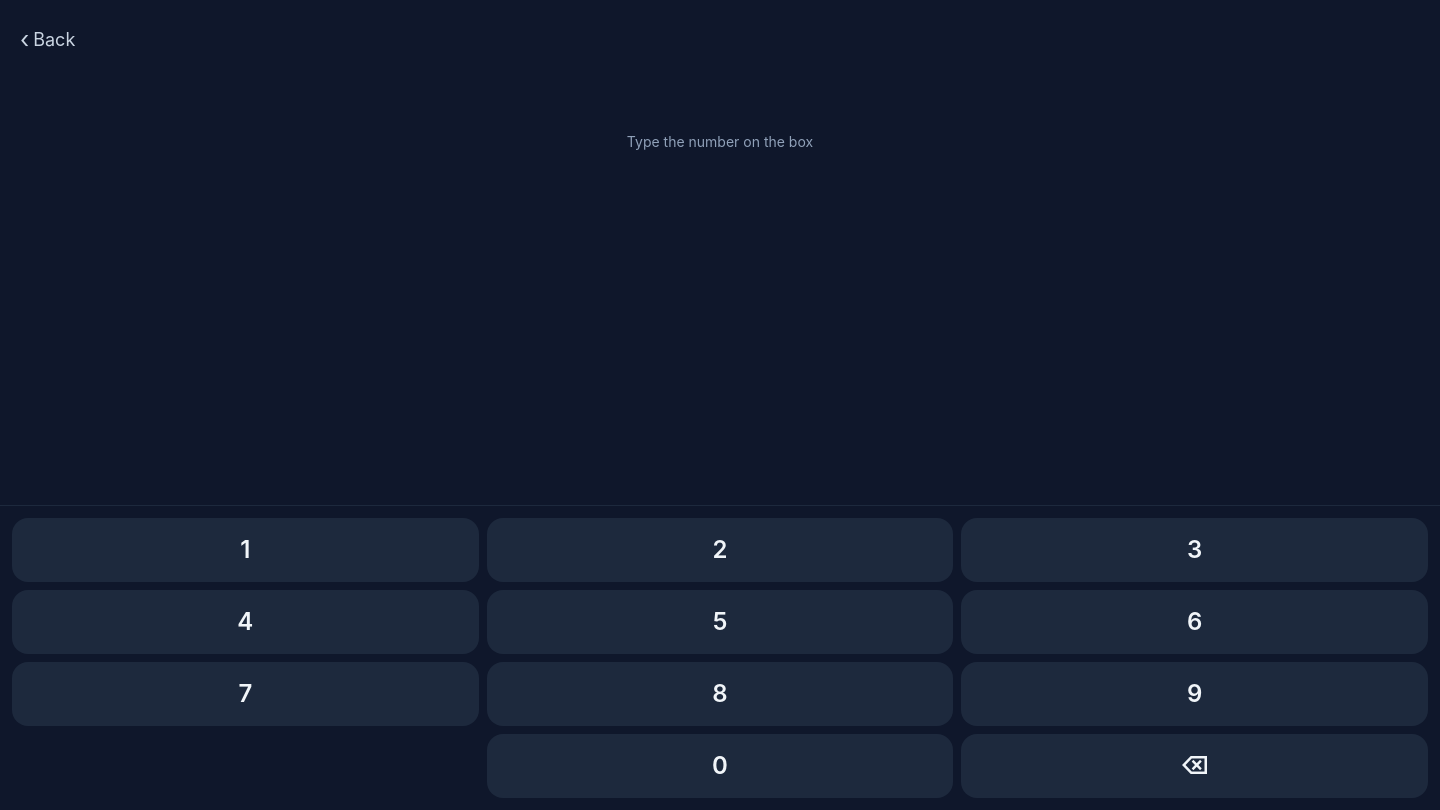
Scenario: FindBox › narrows as digits are typed
Click the button "4" at {"x": 245, "y": 622}, box [12, 590, 479, 654]
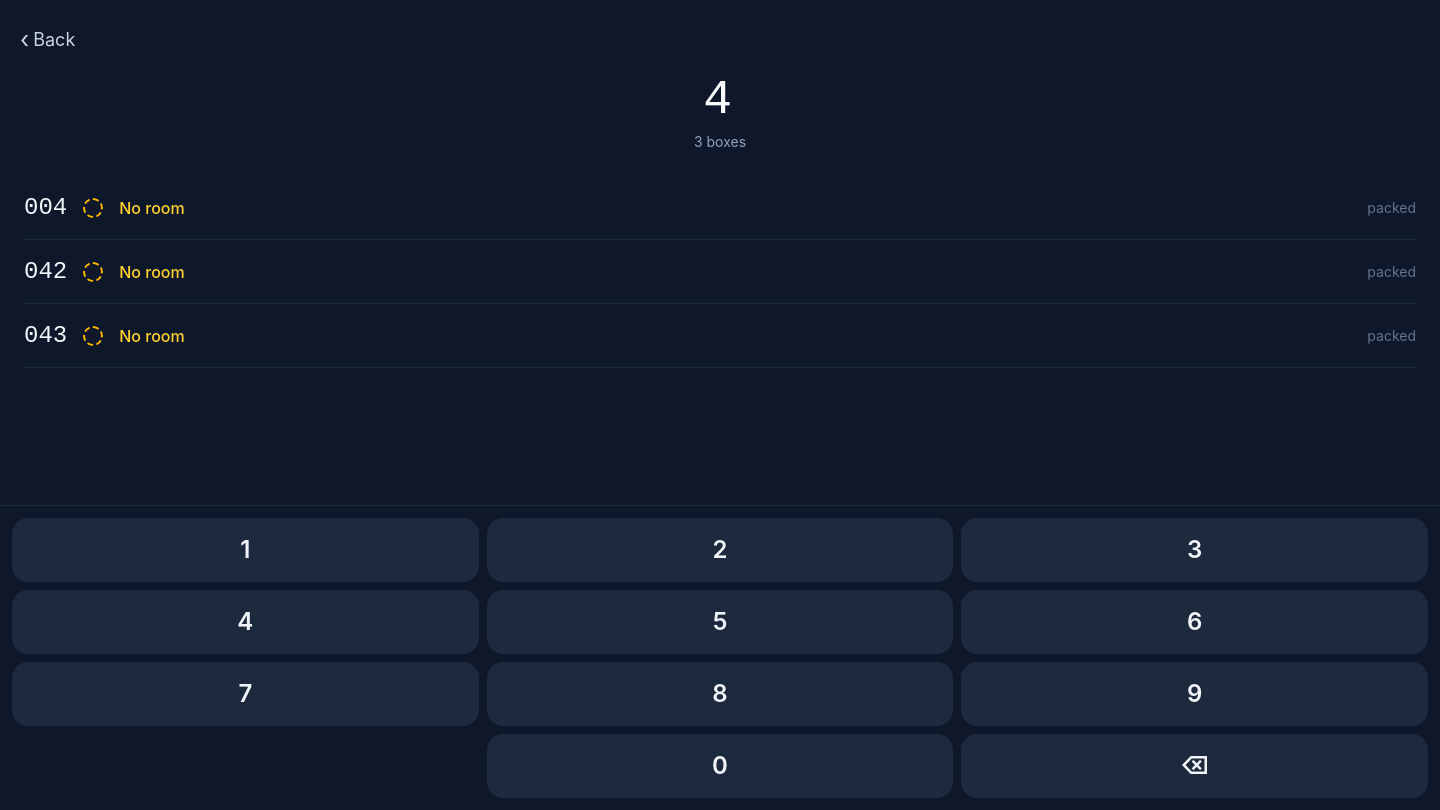
Expected: the text "3 boxes" is shown, [694, 133, 746, 150]
